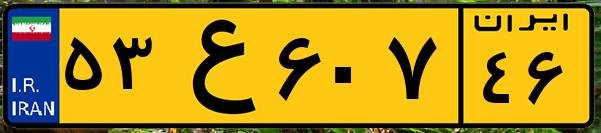0: (330, 28, 385, 110)
3: (110, 28, 158, 98)
4: (475, 38, 525, 113)
5: (57, 26, 110, 100)
6: (270, 28, 330, 110), (525, 38, 570, 115)
7: (385, 28, 445, 110)
ع: (158, 12, 270, 120)
